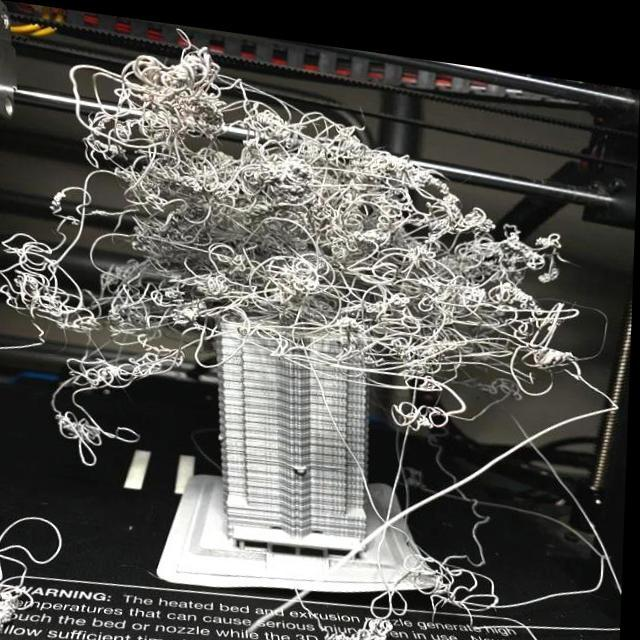spaghetti: (318, 116, 625, 455), (1, 194, 254, 473), (73, 34, 326, 222), (222, 214, 359, 387)
